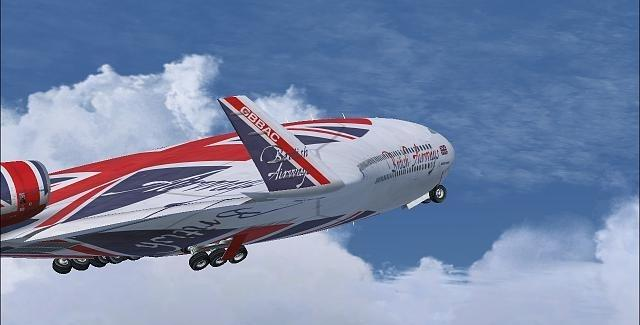airplane: (2, 85, 460, 279)
